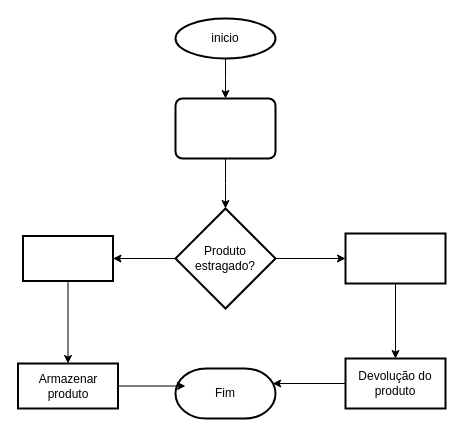
Image size: 464x436. Some labels were removed from this diagram. Here are the shapes that lost their labels. From the top down, the box of each, then its label:
(174, 97, 276, 159): Chegada do produto na empresa
(22, 234, 114, 282): não
(344, 232, 446, 284): sim
